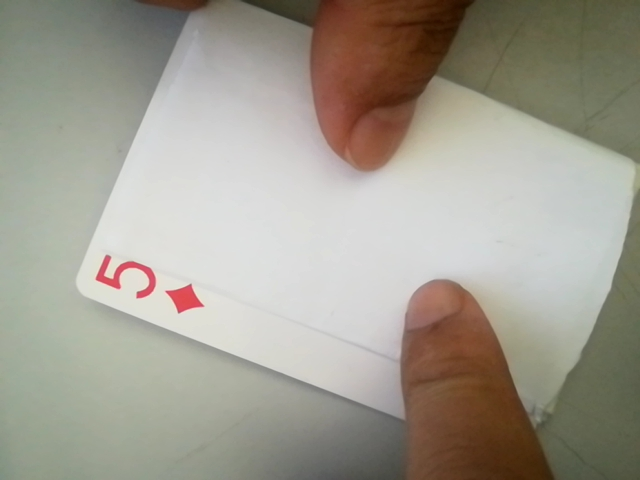fk 5: (83, 250, 212, 321)
